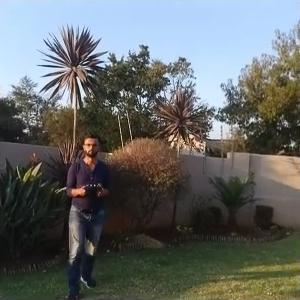follow: (60, 128, 111, 298)
